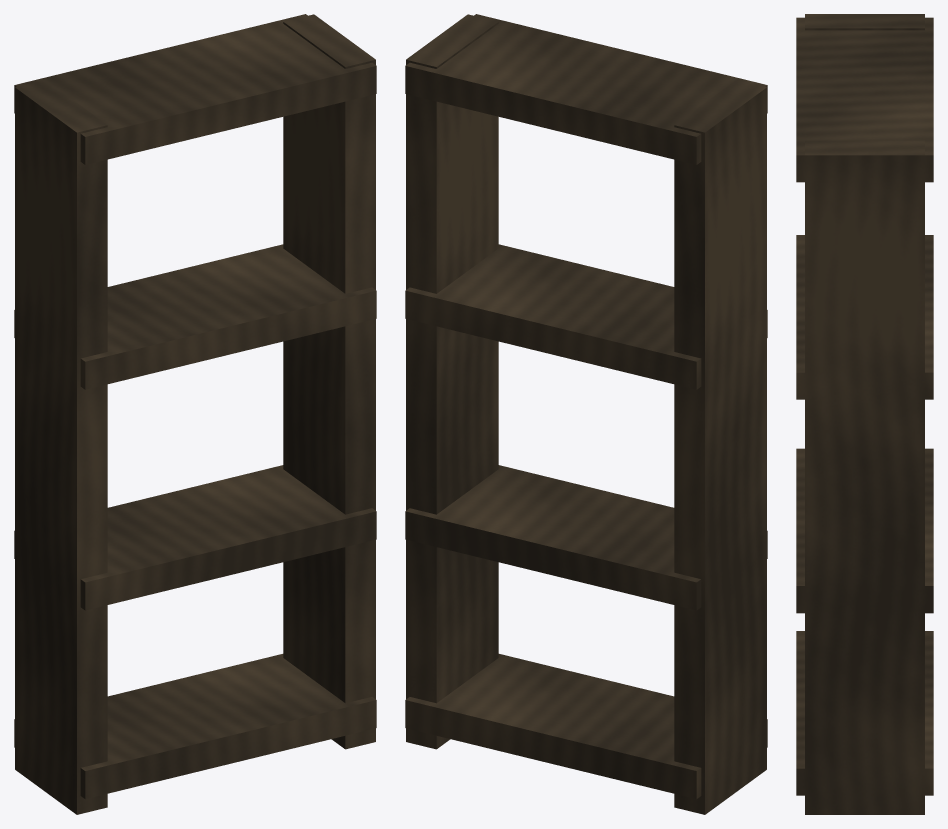
Rendered from Shelf.glb.
The picture shows the model from 3 angles, left to right: view 1: azimuth 30°, elevation 25°; view 2: azimuth 150°, elevation 25°; view 3: azimuth 270°, elevation 25°; orthographic projection. The views are drawn at different scales.
Visible parts, largest first — view 1: Shelf; view 2: Shelf; view 3: Shelf.
Part boxes in pixels (box(x1,y1,x2,y2)): Shelf: box(14, 14, 376, 814); Shelf: box(405, 14, 767, 814); Shelf: box(796, 14, 933, 814).
Size of the model in its own units: 0.78 by 1.7 by 0.32.
Materials: 1 (1 with a texture image).
